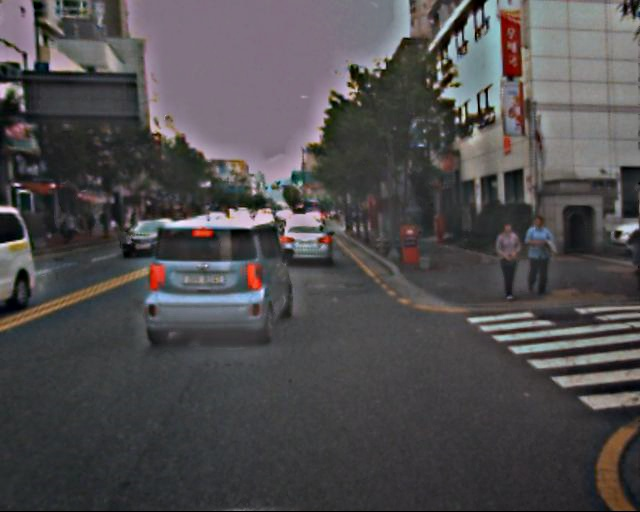person: (491, 221, 525, 303), (519, 215, 552, 296)
